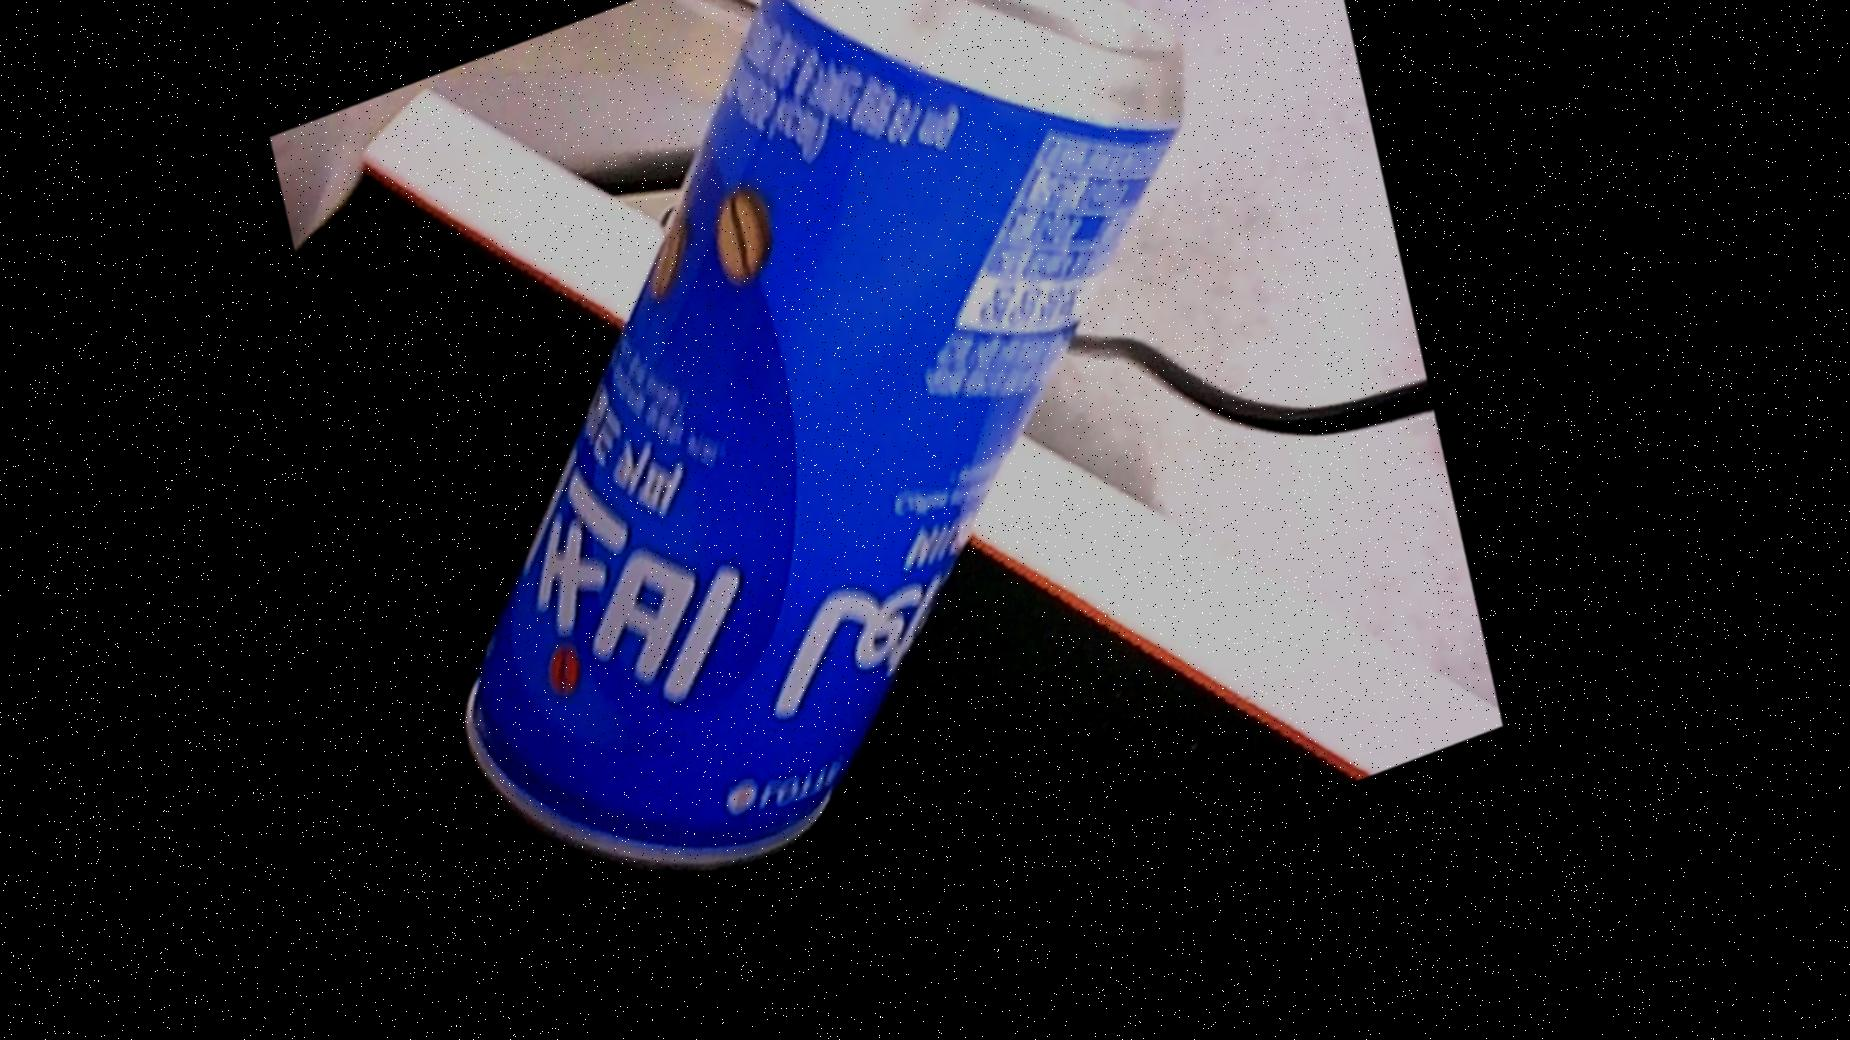letsbe: (276, 0, 1372, 987)
